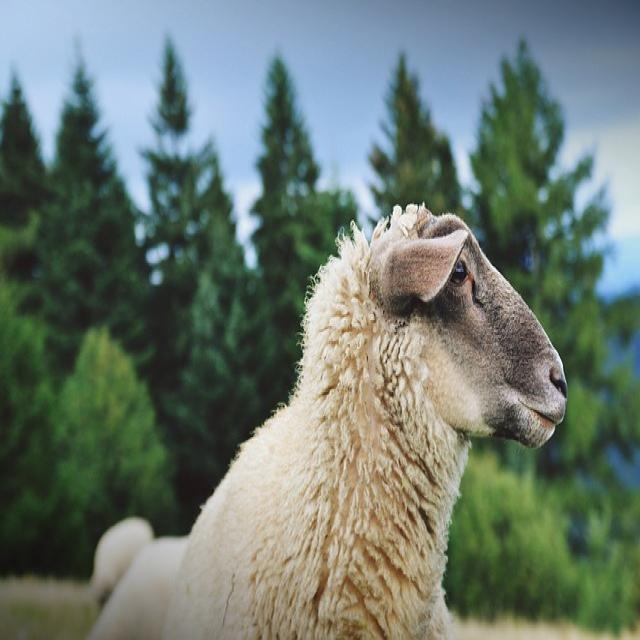goat: (164, 205, 566, 638), (90, 537, 189, 640)
